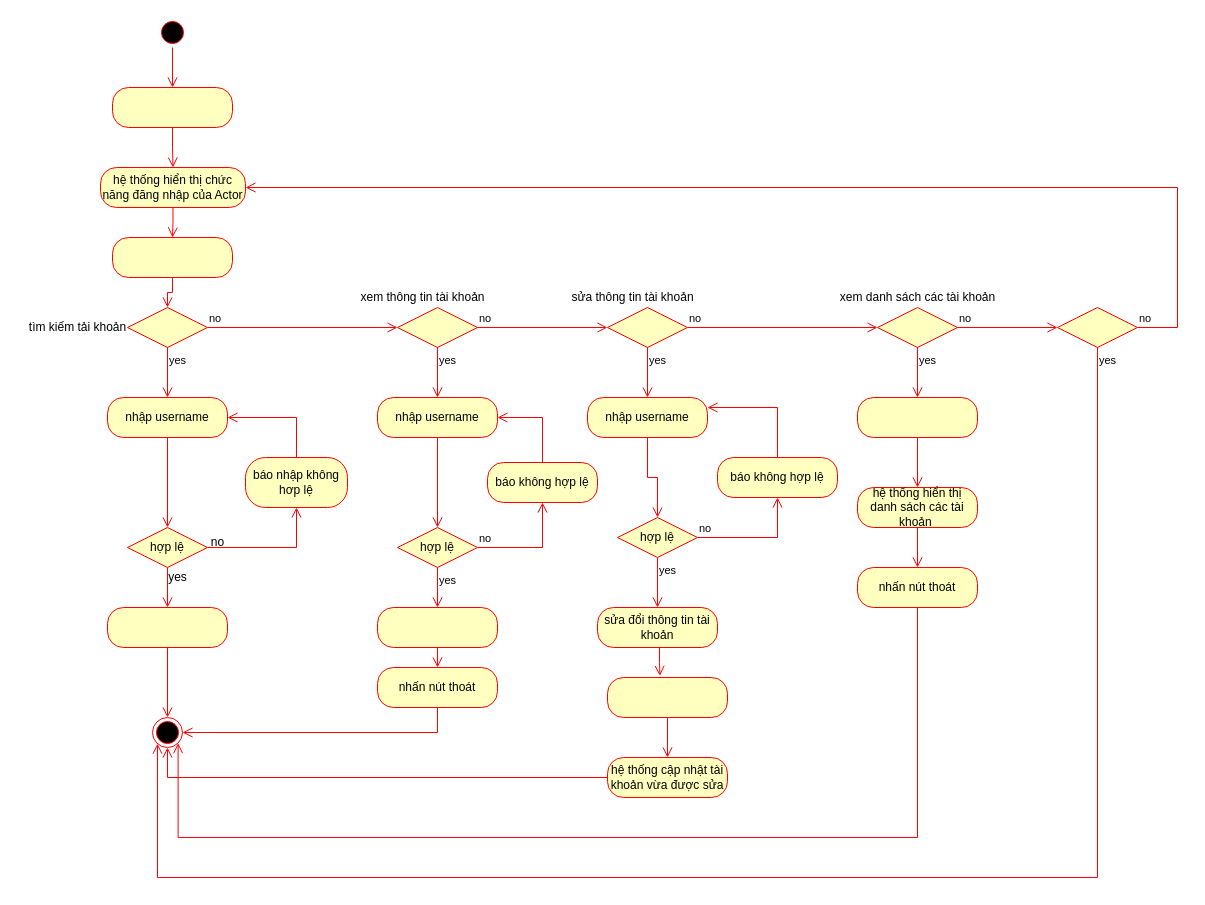
Image size: 1205x905. Some labels were removed from this diagram. The shapes that lost their labels are listed below. From the top down, each one's box as (x1, y1, x2, y2) in pixels, then its label:
(112, 86, 232, 128): Actor thực hiện chức năng đăng nhập
(112, 236, 232, 278): Actor chọn "tài khoản"
(1056, 306, 1138, 348): thoát
(856, 396, 978, 438): nhấn nút hiển thị danh sách các tài khoản
(106, 606, 228, 648): xuất ra thông tin về username
(376, 606, 498, 648): xuất ra thông tin về tài khoản
(606, 676, 728, 718): nhấn nút lưu
